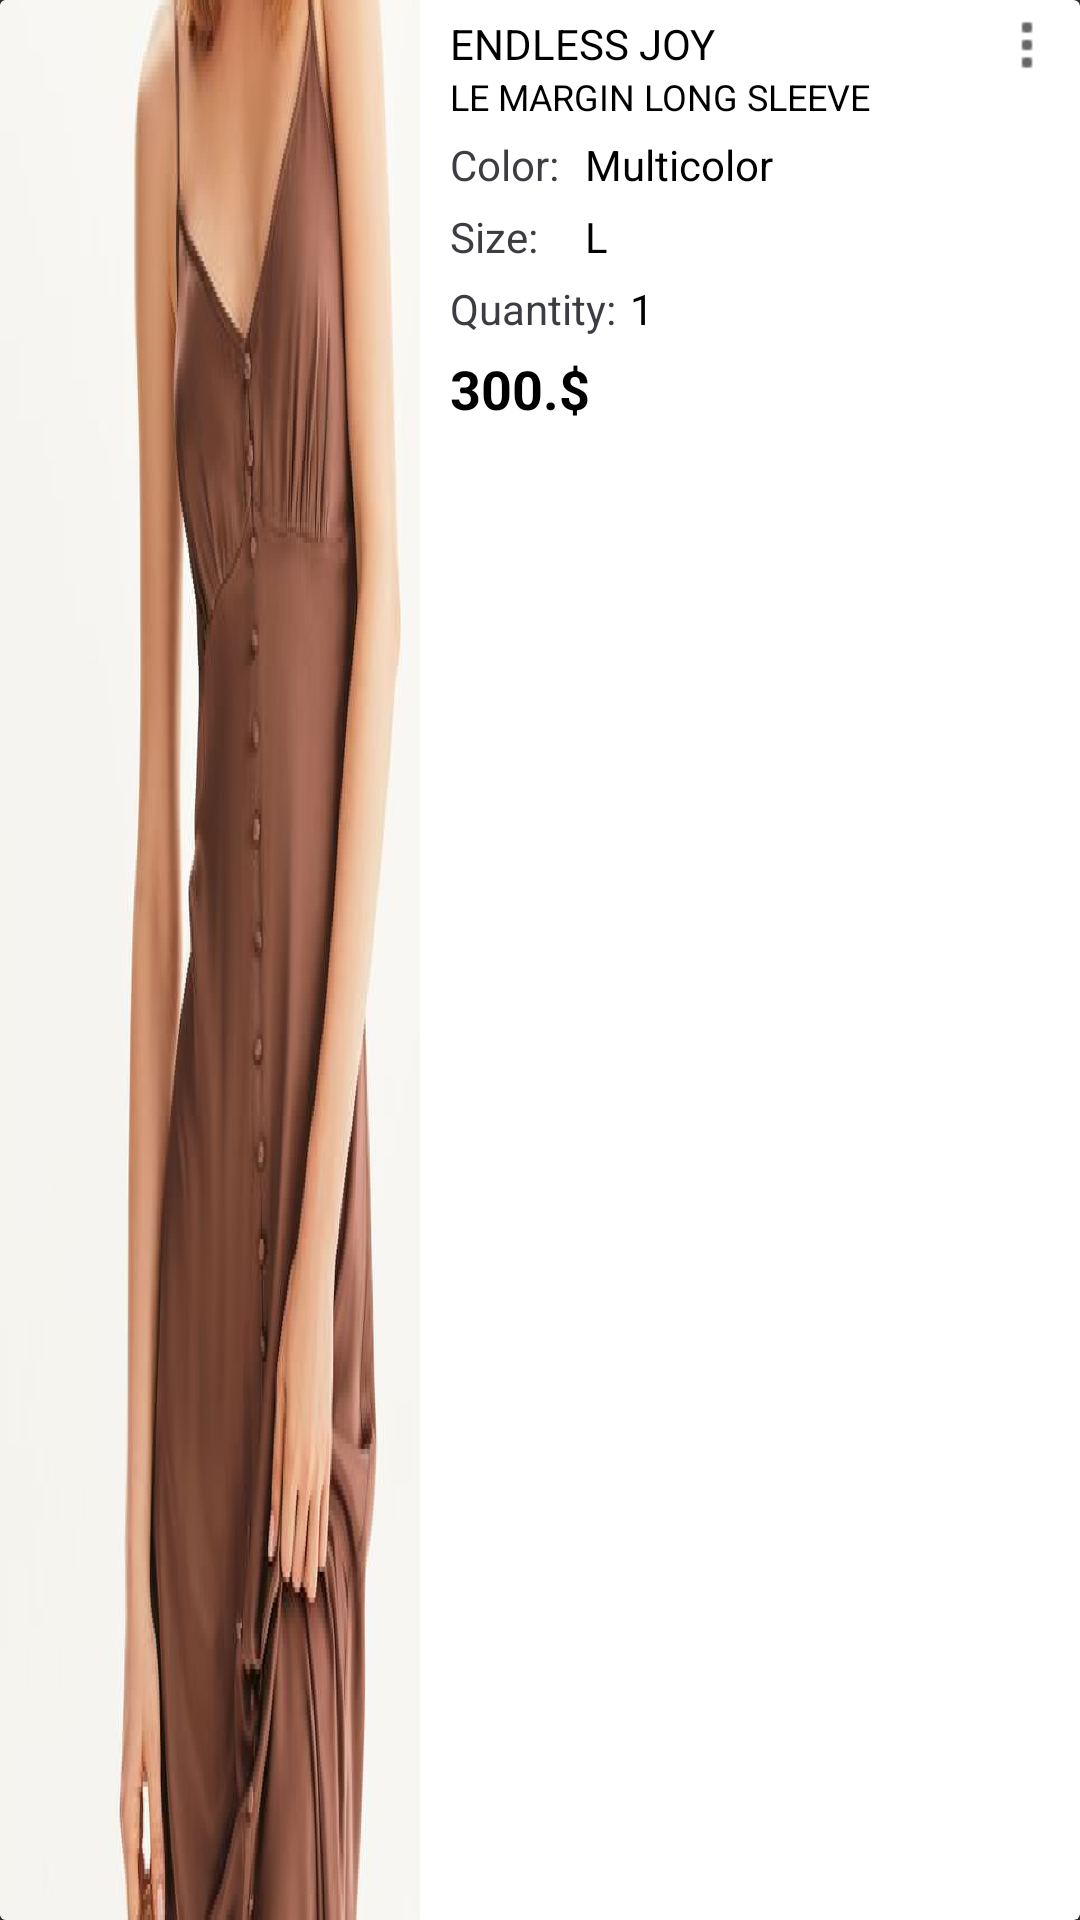

Icons on this 1080 × 1920 Android screen, each with the point to tap as [x,y]:
optionmenu: [1027,45]
